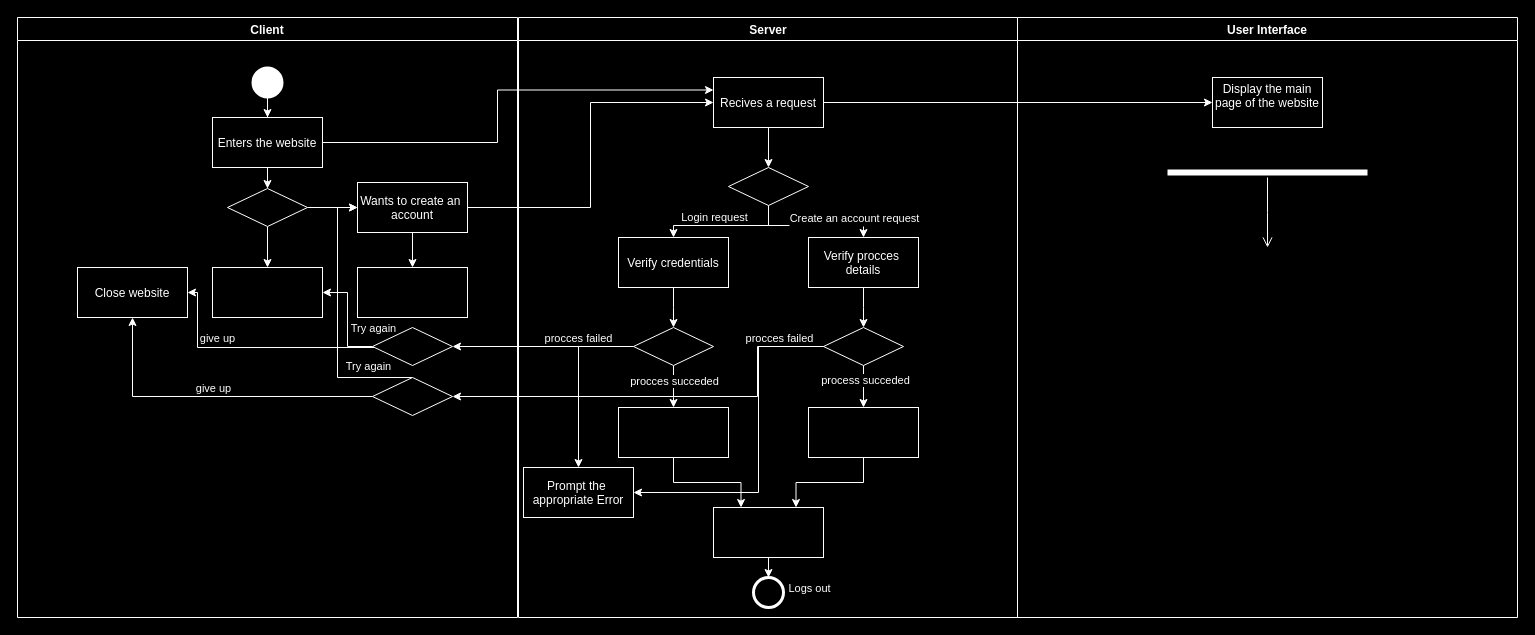
Some shapes in this 1535 by 635 pixel diagram are drawn without their labels. The shapes that lost their labels are listed below. From the top down, each one's centre as x and y in pixels, then its label:
At (x=267, y=292): "Tries to login".
At (x=412, y=292): "Writes their credentials".
At (x=673, y=432): "Loading user data".
At (x=863, y=432): "Account created and saved in database".
At (x=768, y=532): "Implements a logout mechanism".
